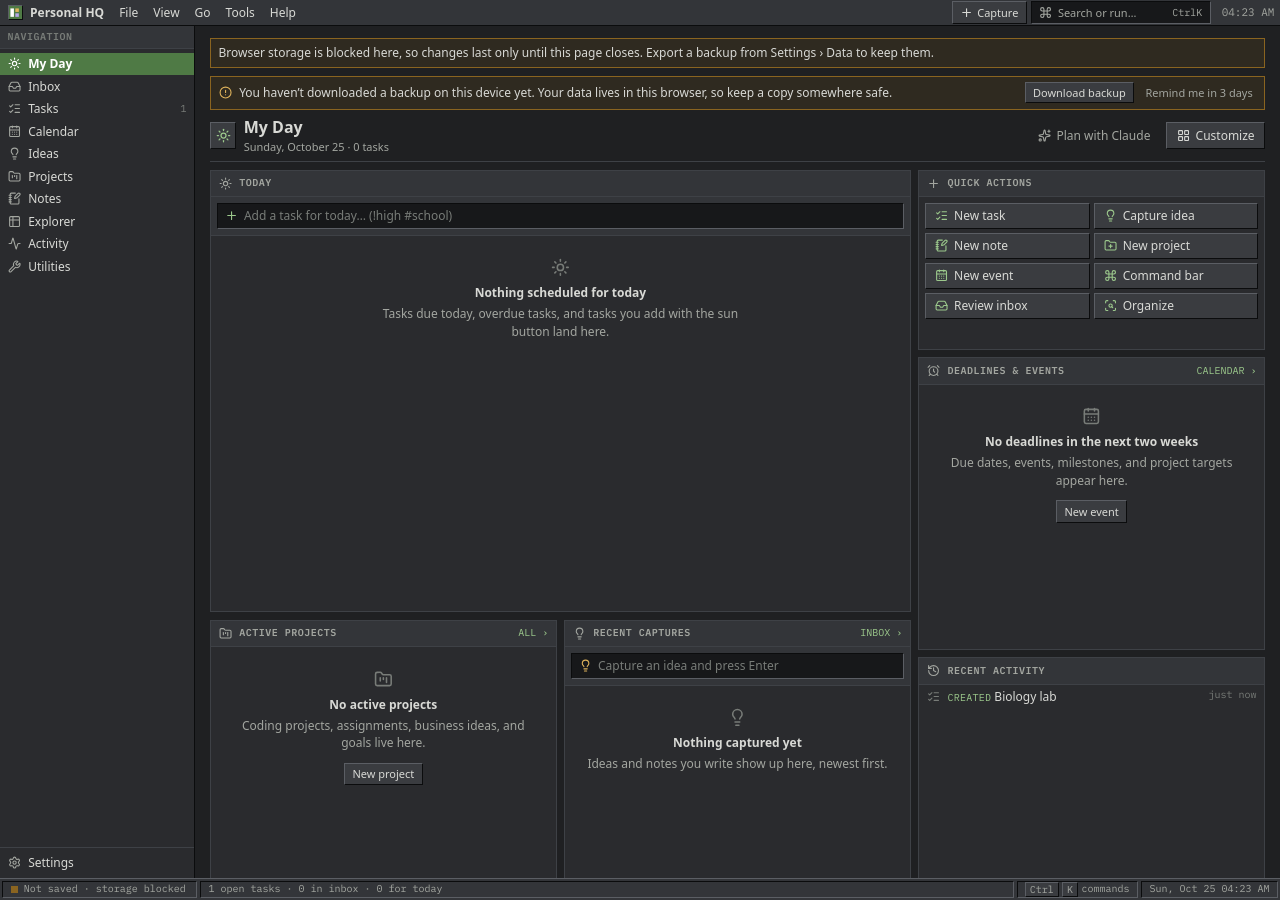
Explorer › command bar search offers all results in Explorer
Expected: the heading "My Day" is shown, [244,116,303,138]
Type keys "{Control>}k{/Control}"
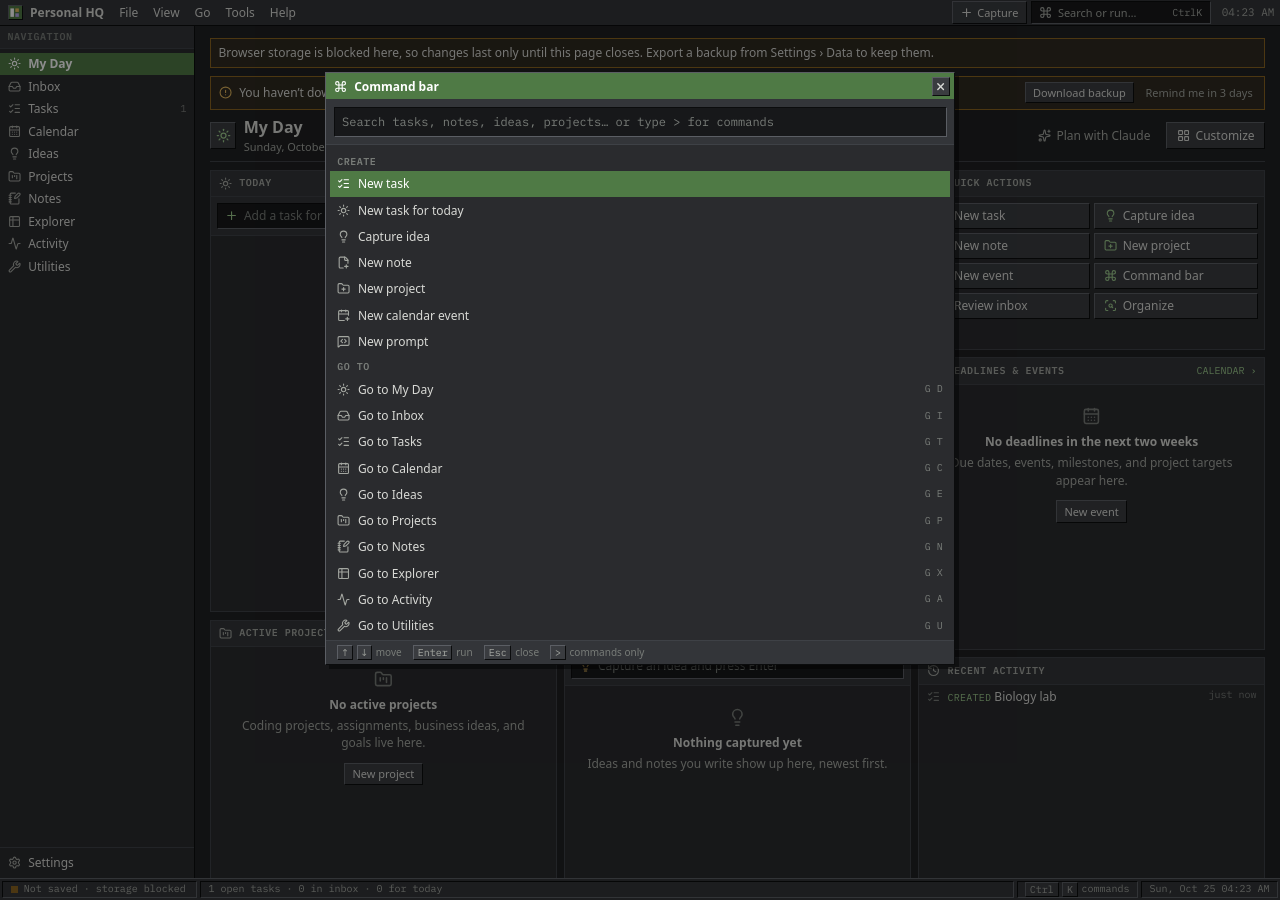
Type "biology" into the dropdown.
click(640, 122); type("biology")  # box [334,107,946,137]
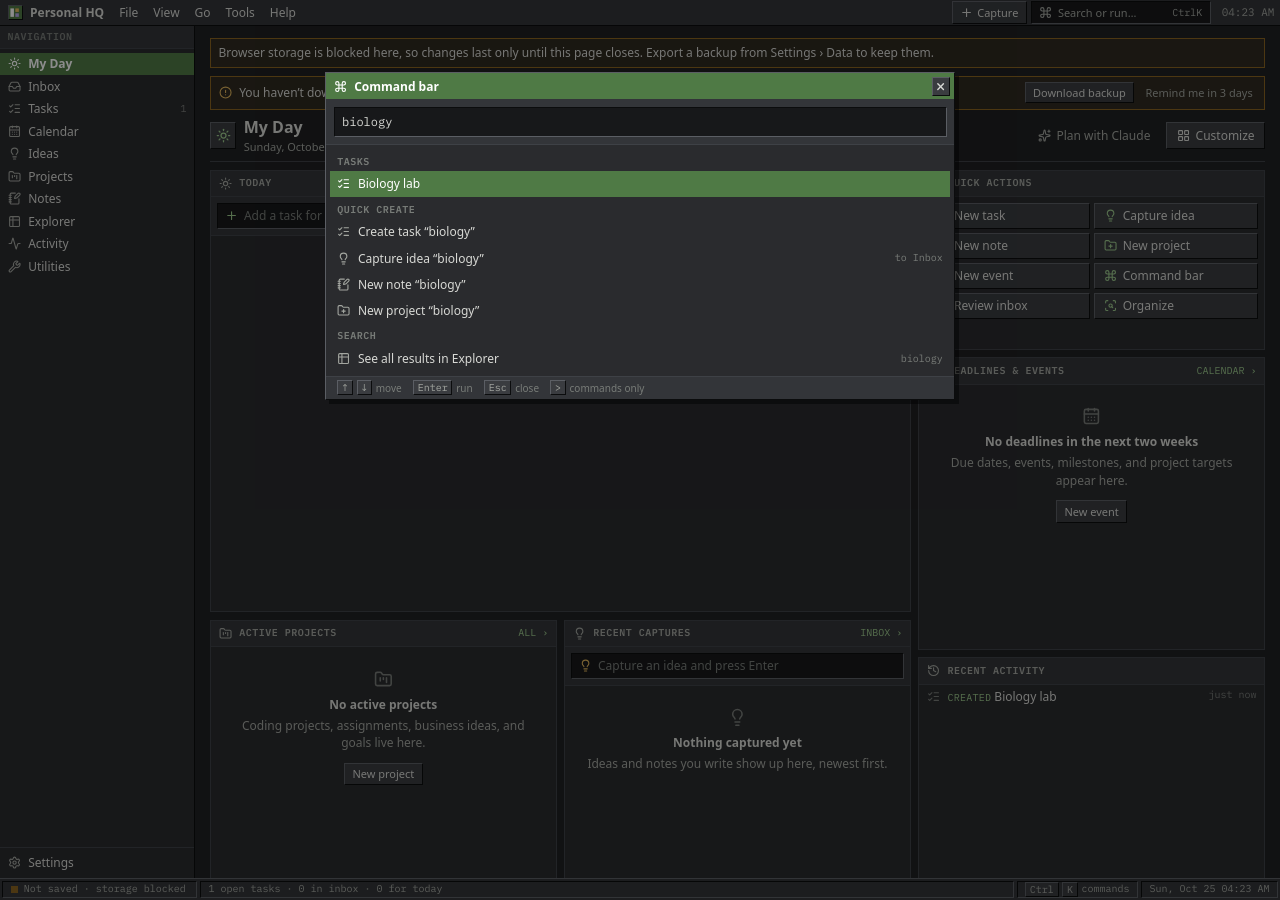
Click the option "See all results in Explorer biology".
click(428, 358)  # box [330,346,950,372]
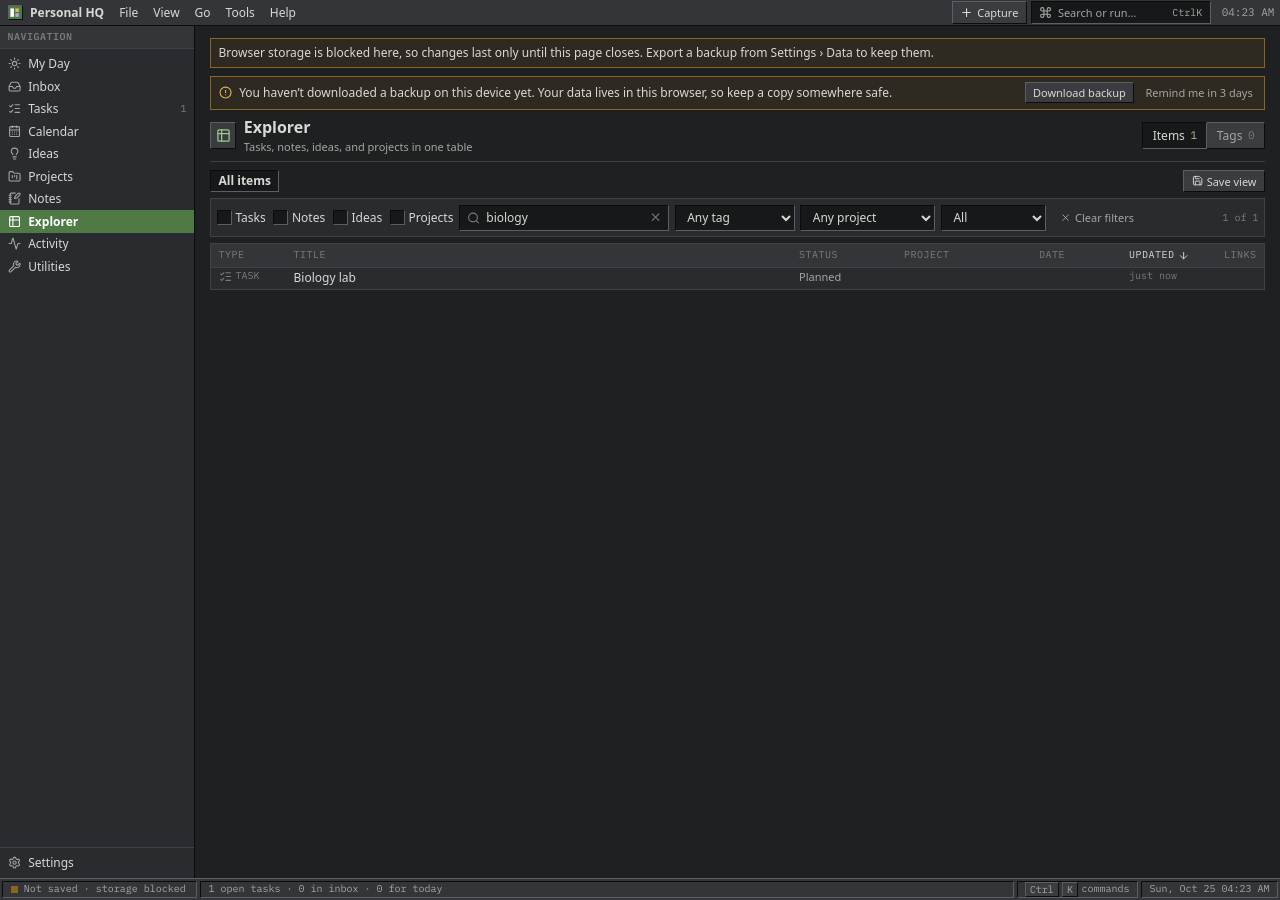
Result: the search field named "Search everything" holds "biology" at [459,204,669,231]
